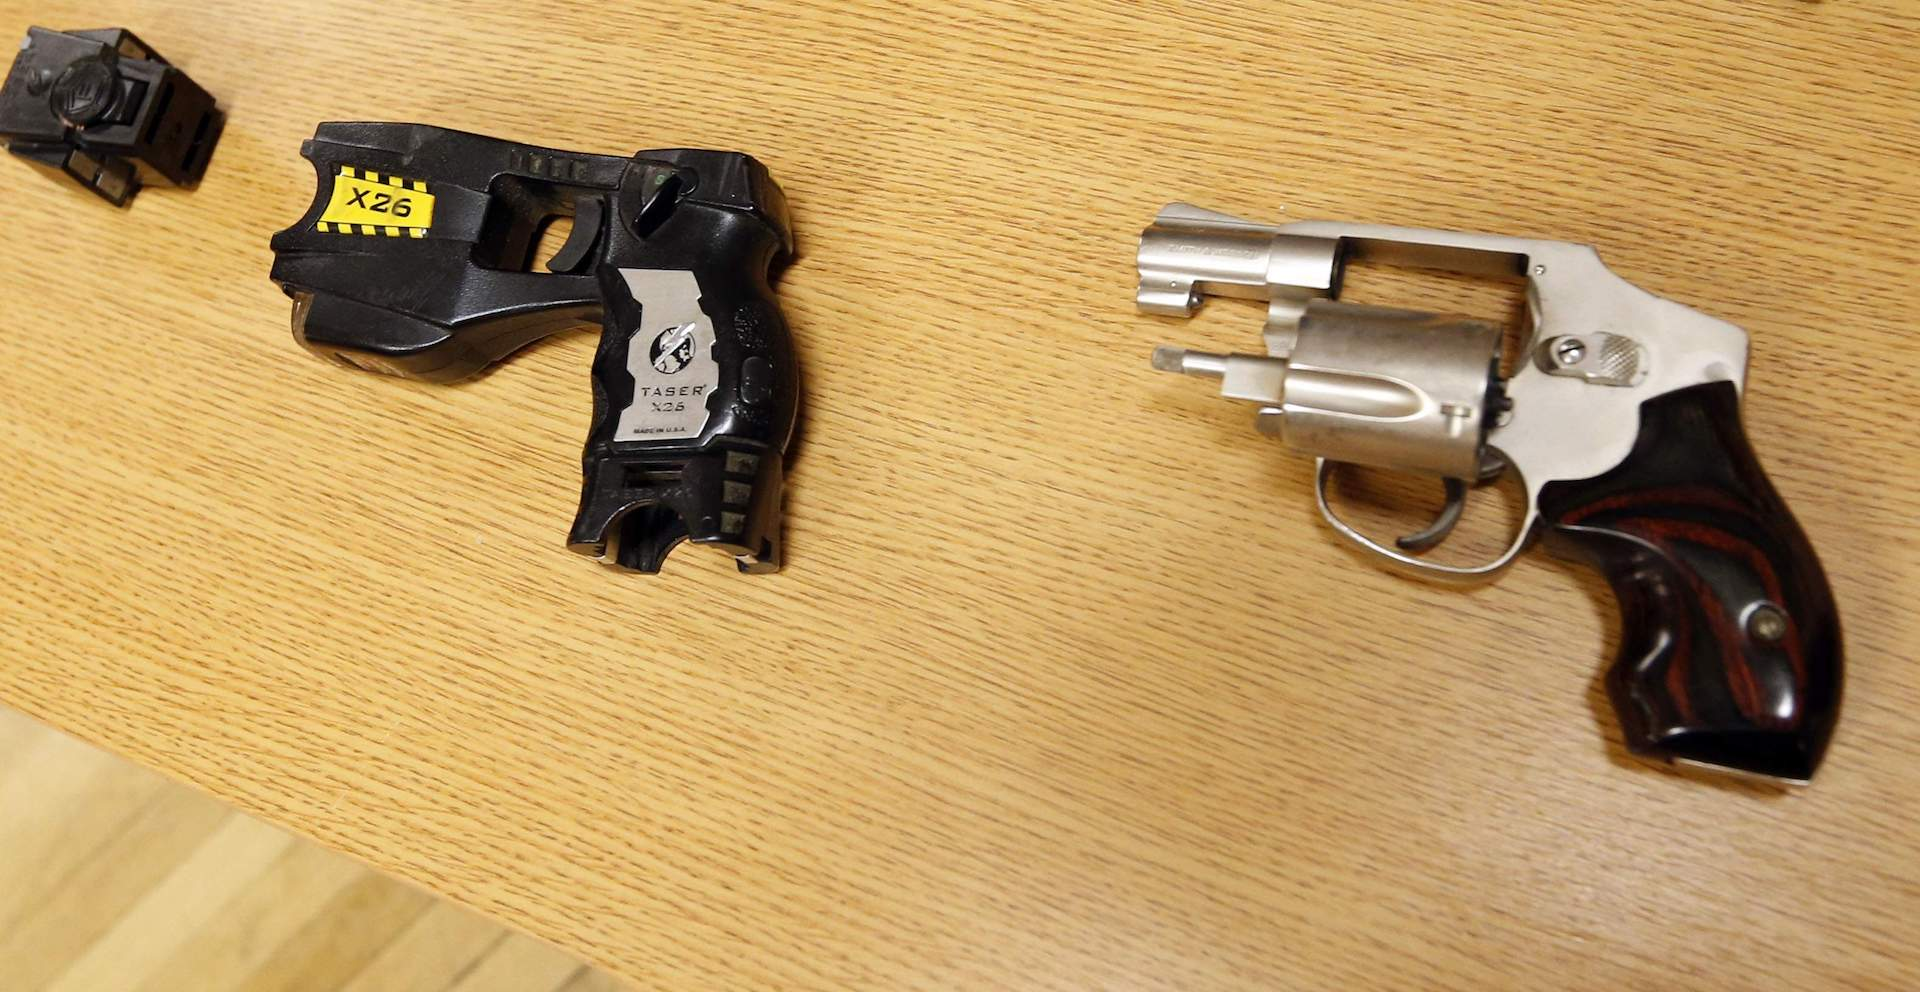pistol: (1135, 200, 1854, 798)
